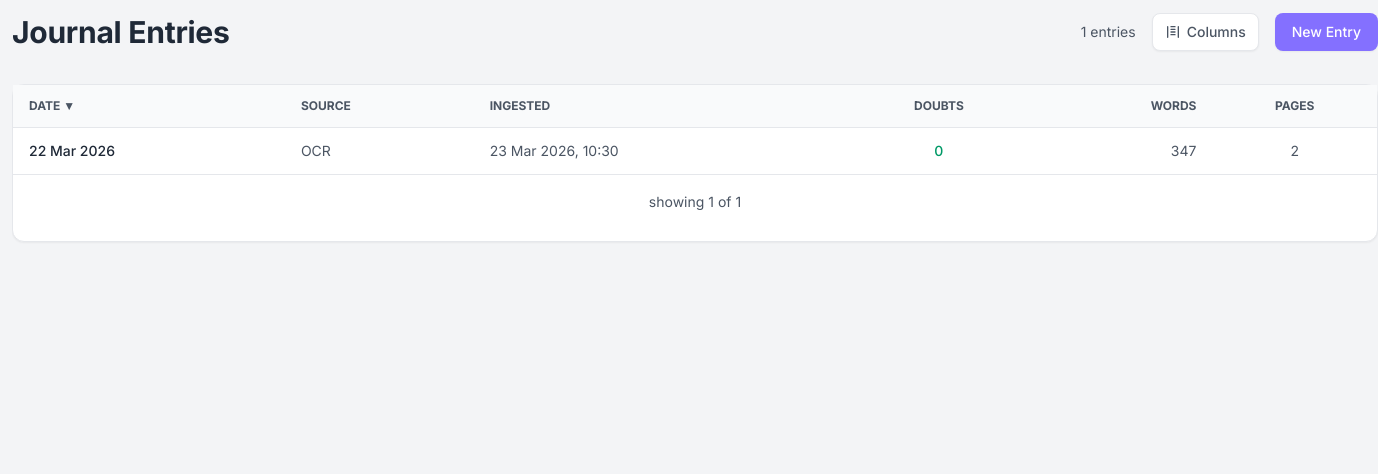
Test case: Column order › adds missing columns to the end when new columns are added
This screenshot has width=1378, height=474.
Click the button with test id "columns-button": point(1205, 32) [1152,13,1259,51]
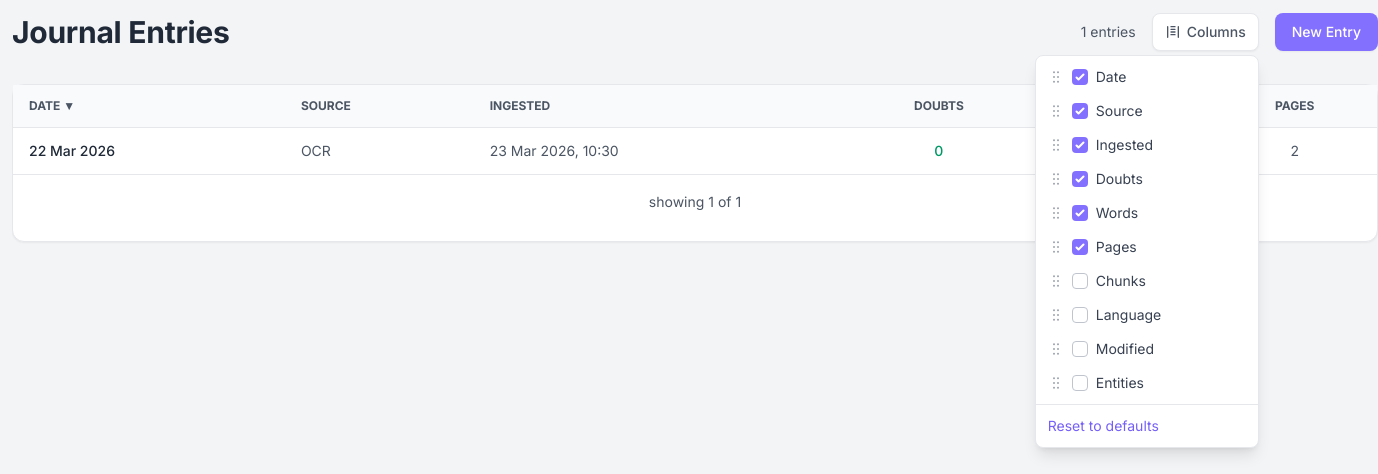
expect the element with test id "col-item-language" is shown: met, box [1048,306,1161,323]
expect the element with test id "col-item-updated_at" is shown: met, box [1048,340,1154,357]
expect the element with test id "col-item-entity_mention_count" is shown: met, box [1048,374,1144,391]
